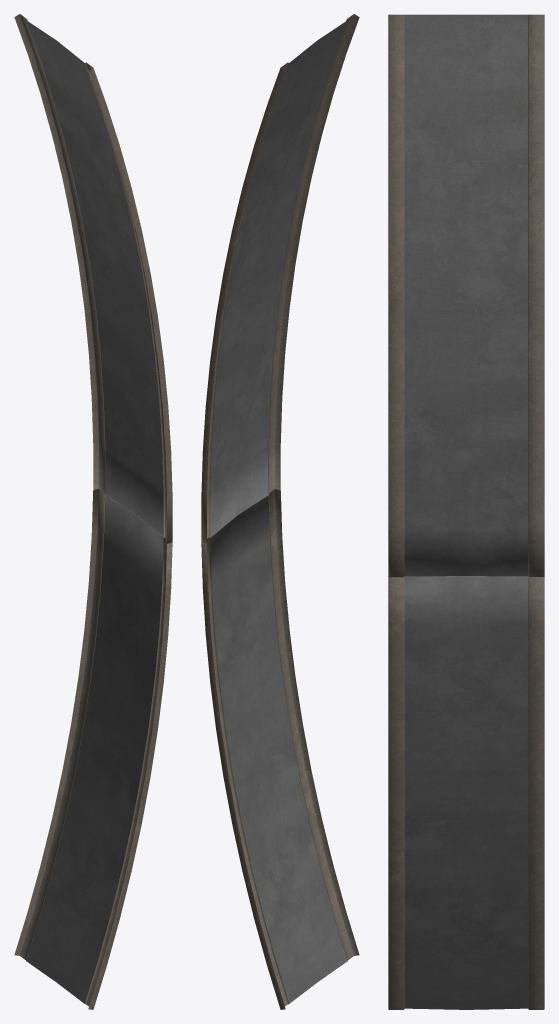
The model's file is cP_Pathway01_v02_Hill.dae.
3 renders of one model, left to right at view 1: azimuth 30°, elevation 25°; view 2: azimuth 150°, elevation 25°; view 3: azimuth 270°, elevation 25°, orthographic. The views are drawn at different scales.
Visible parts, largest first — view 1: cP_Pathway01_v02_Hill.001; view 2: cP_Pathway01_v02_Hill.001; view 3: cP_Pathway01_v02_Hill.001.
Part boxes in pixels (x1=…): cP_Pathway01_v02_Hill.001: x1=14, y1=14, x2=172, y2=1009; cP_Pathway01_v02_Hill.001: x1=201, y1=14, x2=359, y2=1009; cP_Pathway01_v02_Hill.001: x1=388, y1=14, x2=544, y2=1009.
Bounding box in the file's own units: 1.3 × 1.95 × 13.75.
